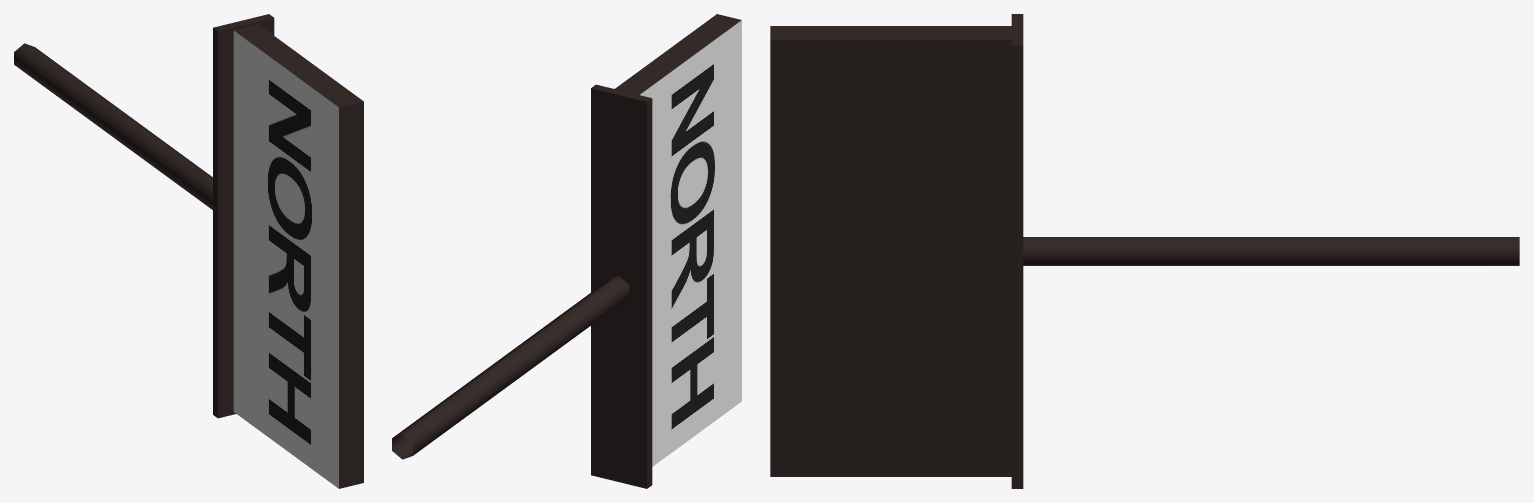
Rendered from north.obj.
3 renders of one model, left to right at view 1: azimuth 30°, elevation 25°; view 2: azimuth 150°, elevation 25°; view 3: azimuth 270°, elevation 25°, orthographic. The views are drawn at different scales.
Visible parts, largest first — view 1: north; view 2: north; view 3: north.
Boxes of the visible parts, x1,y1,x2,y2 form: north: (14,14,363,488); north: (392,14,741,488); north: (770,14,1519,488).
Bounding box in the file's own units: 1.4 × 9.22 × 14.12.
2 materials, 1 textured.
